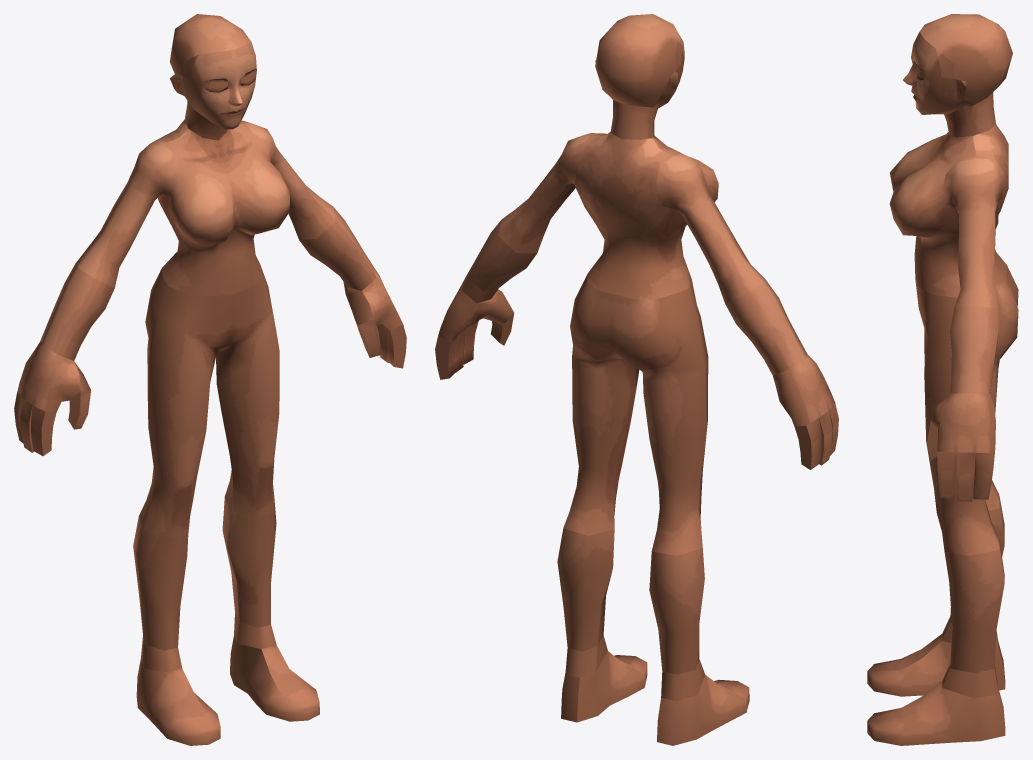
File: hum_f_861fa9a2.glb
The picture shows the model from 3 angles, left to right: view 1: azimuth 30°, elevation 25°; view 2: azimuth 150°, elevation 25°; view 3: azimuth 270°, elevation 25°; orthographic projection. The views are drawn at different scales.
Bounding box in the file's own units: 1.42 × 2.47 × 0.4889.
Materials: 1 (1 with a texture image).
